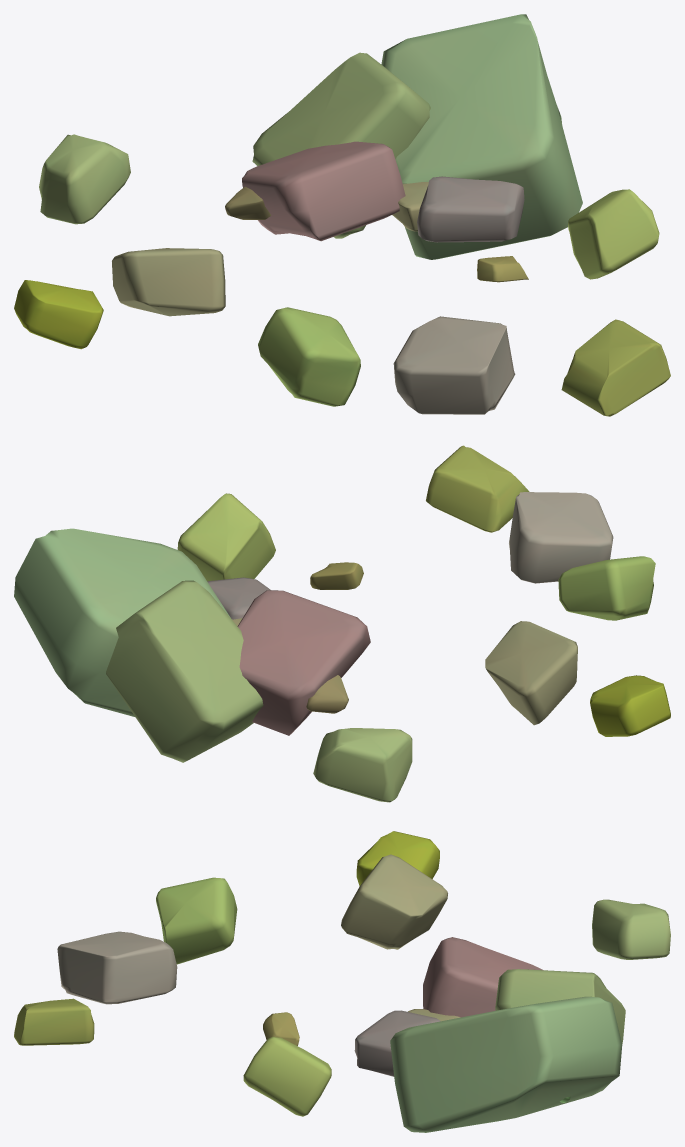
Rendered from SM_Scree_B.glb.
The picture shows the model from 3 angles, top to bottom: view 1: azimuth 30°, elevation 25°; view 2: azimuth 150°, elevation 25°; view 3: azimuth 270°, elevation 25°; orthographic projection. The views are drawn at different scales.
Parts seen in each view (by area): view 1: SM_Scree_B; view 2: SM_Scree_B; view 3: SM_Scree_B.
Boxes of the visible parts, x1,y1,x2,y2 form: SM_Scree_B: [14, 14, 670, 416]; SM_Scree_B: [14, 445, 670, 802]; SM_Scree_B: [14, 831, 670, 1132].
Bounding box in the file's own units: 1.39 × 0.4159 × 1.46.
